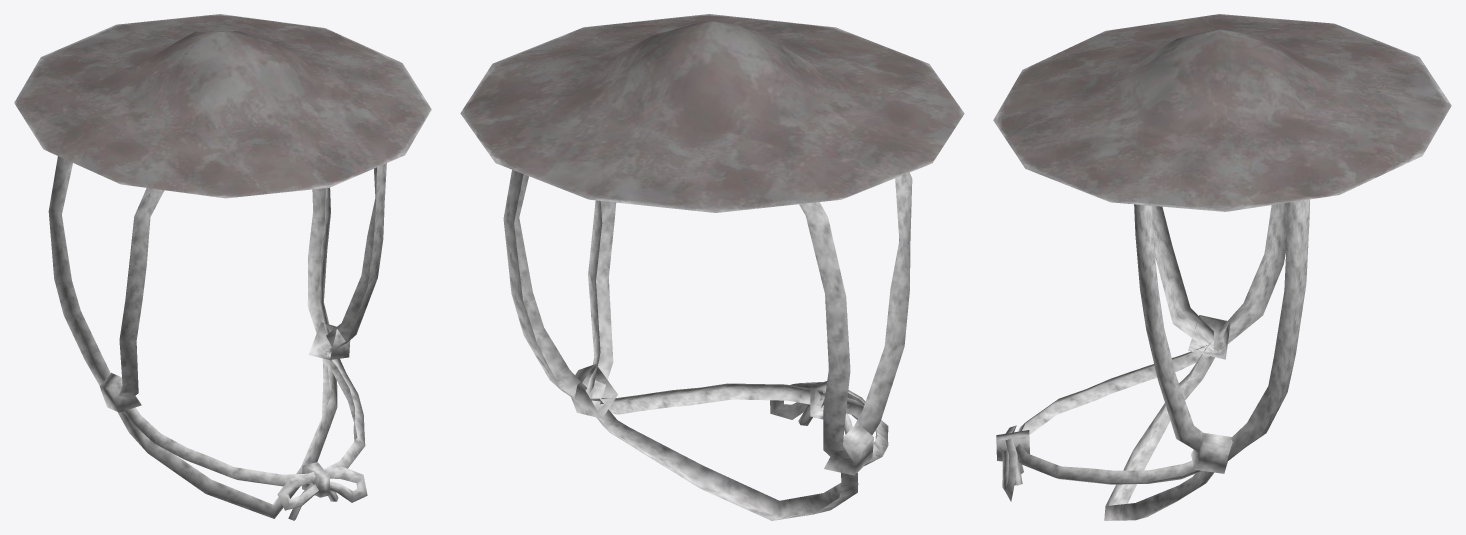
Rendered from helmet-base.glb.
3 renders of one model, left to right at view 1: azimuth 30°, elevation 25°; view 2: azimuth 150°, elevation 25°; view 3: azimuth 270°, elevation 25°, orthographic. The views are drawn at different scales.
Size of the model in its own units: 0.2714 by 0.3212 by 0.2714.
Materials: 1 (1 with a texture image).
